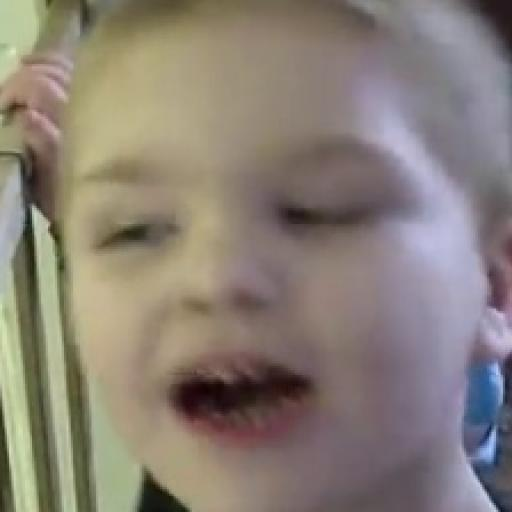Autism: (56, 22, 497, 503)
